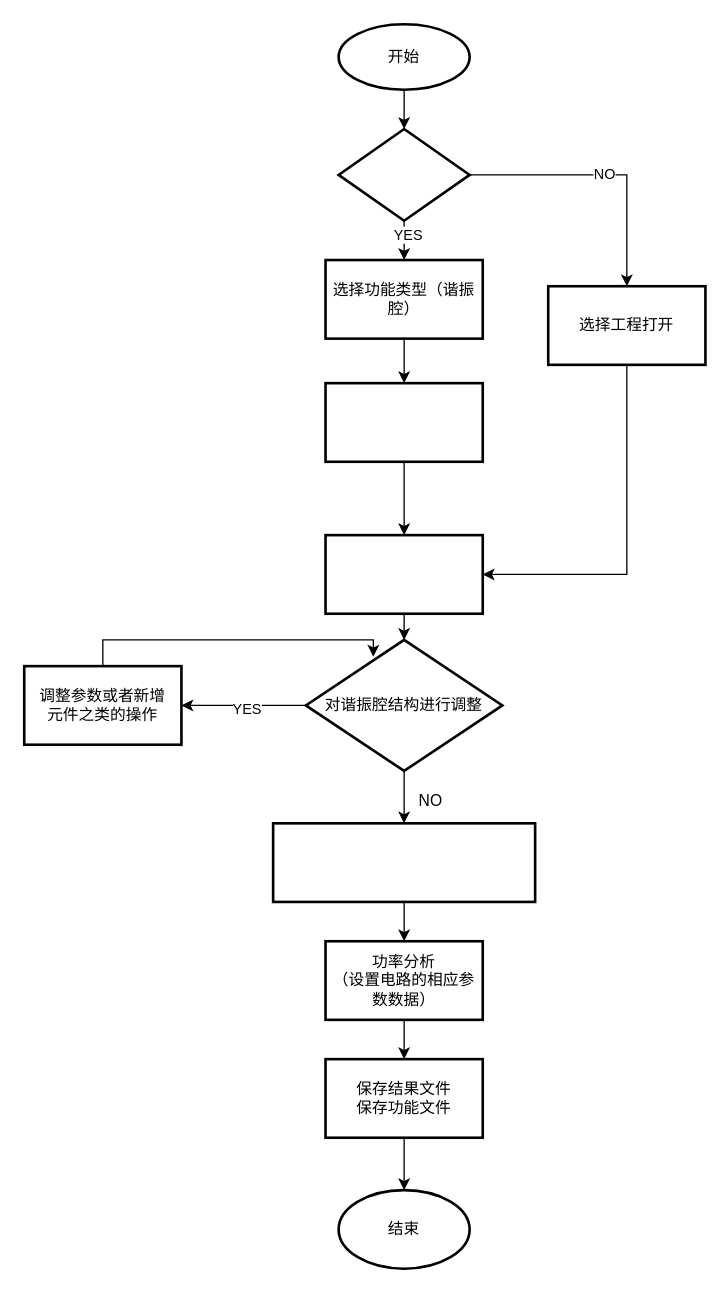
This 728x1292 diagram has some shape labels left out. Here are the shapes that lost their labels. From the top down, the box of each, then its label:
(337, 127, 470, 221): 新建工程
(324, 381, 483, 462): 输入对应参数 （腔镜数量与光波长）
(324, 533, 483, 614): 进入到工程界面
(271, 821, 536, 903): 二维/三维分析计算 （设置fox-li迭代结束条件） 选择可展示的光场平面
